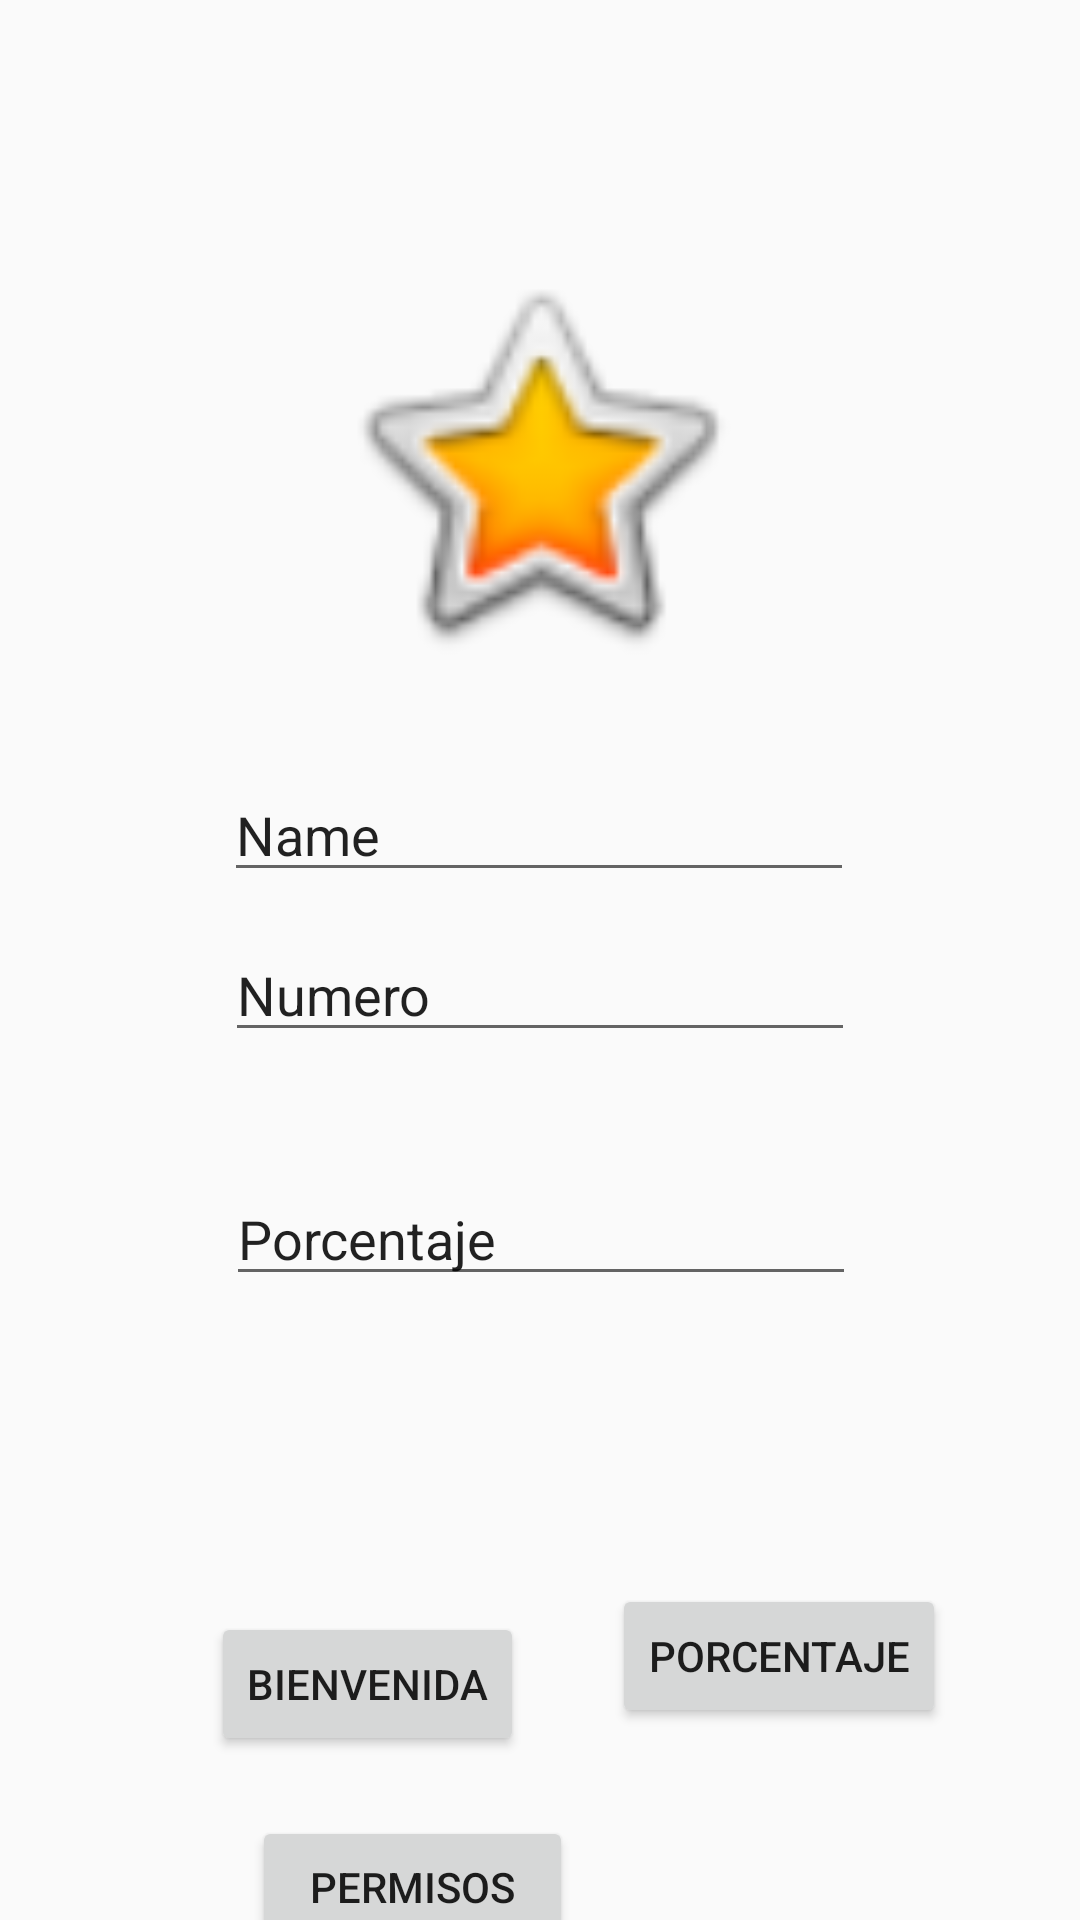

Screen size 1080*1920. Icon name, then its center in pixels as (x=x, y=y):
star on: (x=541, y=467)
